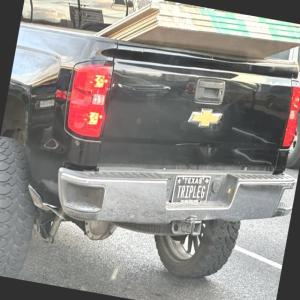Plate: (171, 174, 211, 203)
